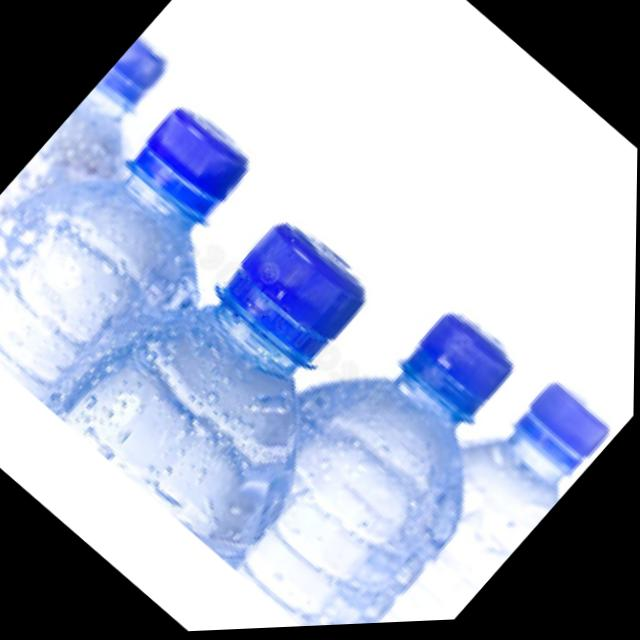plastic_water_bottles: (61, 170, 426, 550), (224, 289, 553, 632), (0, 72, 280, 412), (320, 367, 628, 629)
